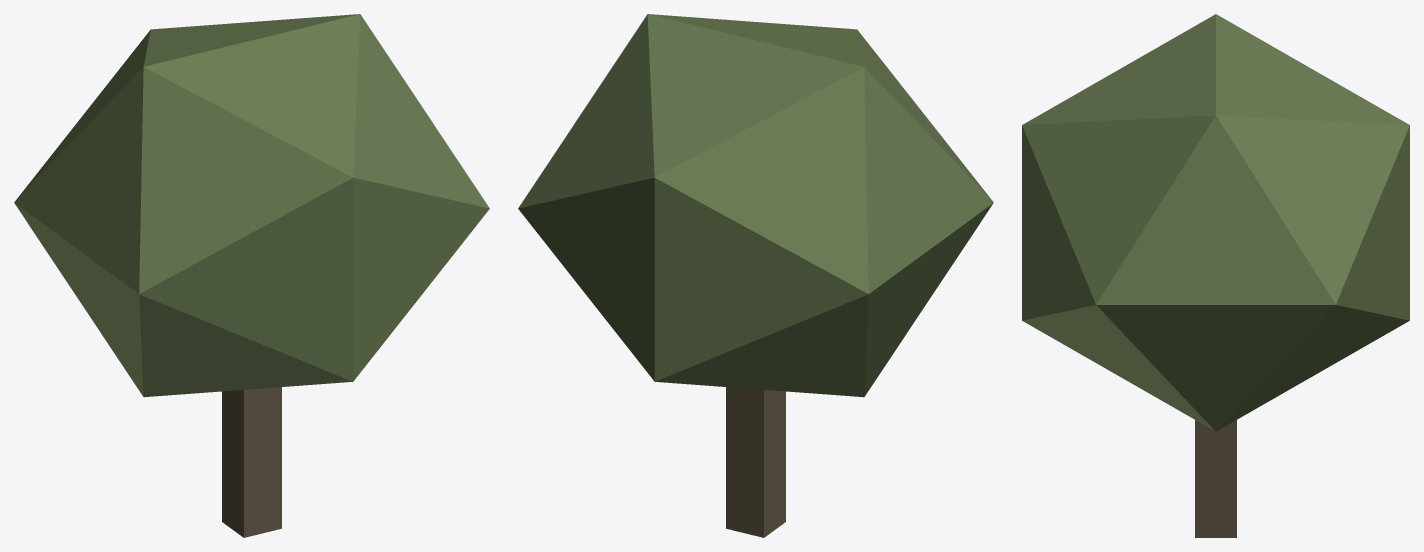
Rendered from olive-tree.glb.
3 renders of one model, left to right at view 1: azimuth 30°, elevation 25°; view 2: azimuth 150°, elevation 25°; view 3: azimuth 270°, elevation 25°, orthographic. The views are drawn at different scales.
Size of the model in its own units: 4.59 by 6.07 by 4.59.
